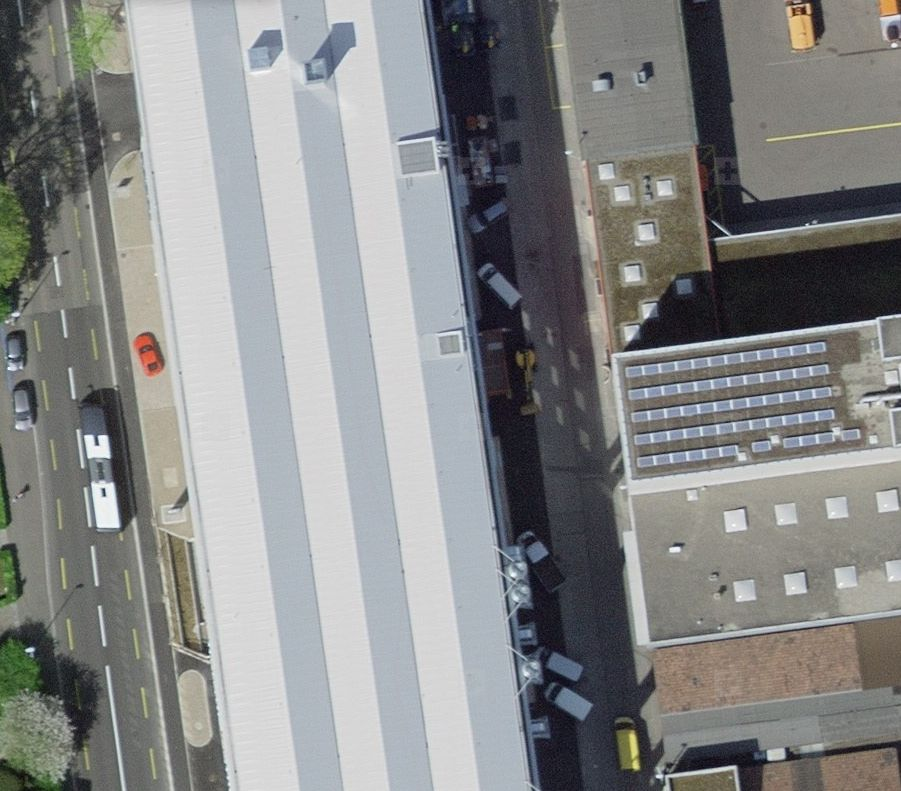solar: (625, 342, 865, 471)
